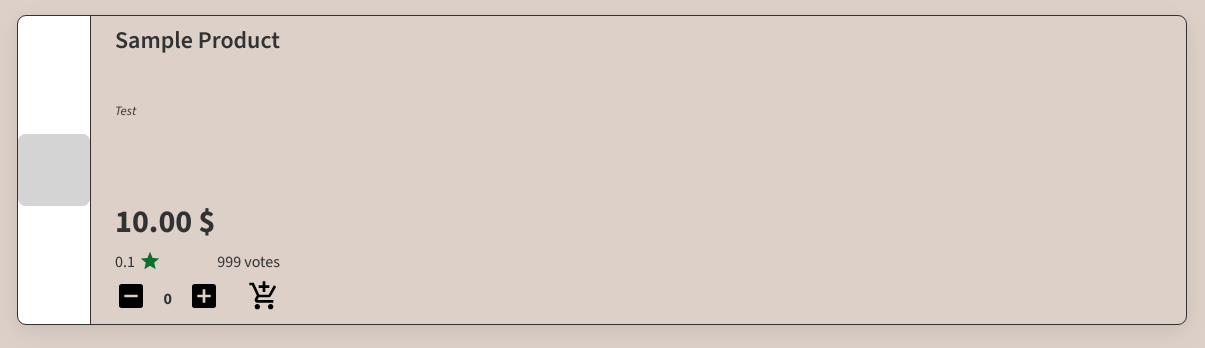
Scenario: ProductCard component › decreases quantity when button clicked
Click the 2nd button with alt text "Increase Quantity Icon" at (204, 298), box [188,280,220,316]
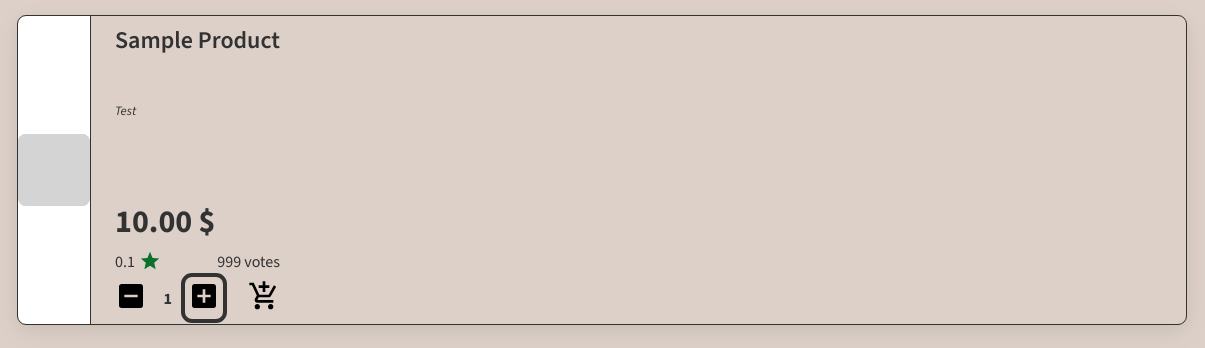
Click the 2nd button with alt text "Increase Quantity Icon" at (204, 298), box [188,280,220,316]
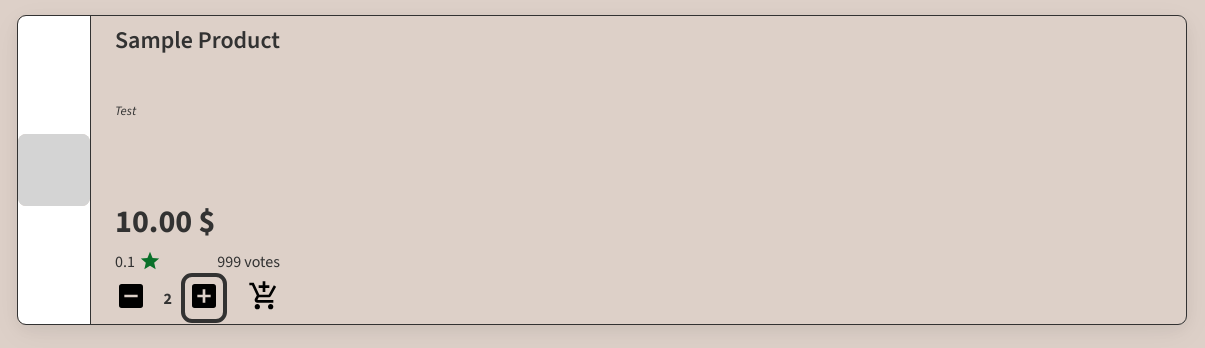
Click the 1st button with alt text "Decrease Quantity Icon" at (131, 298), box [115,280,147,316]
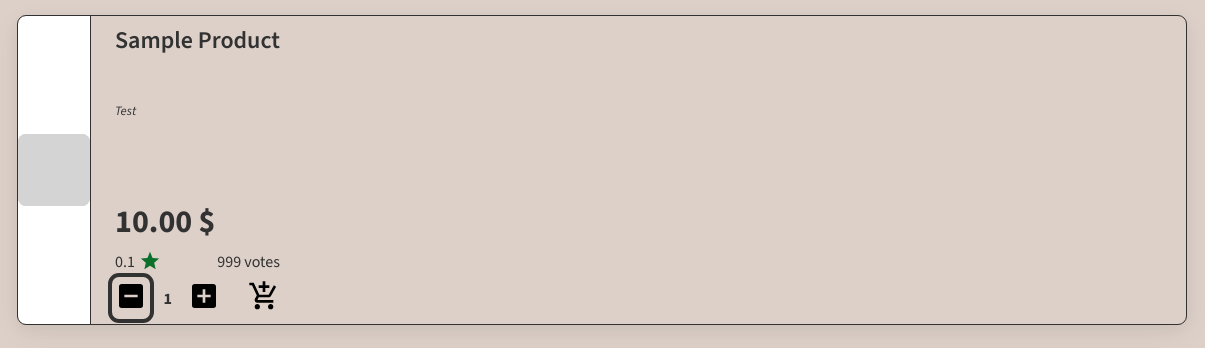
Check: the number field holds "1", box [155,280,180,316]
